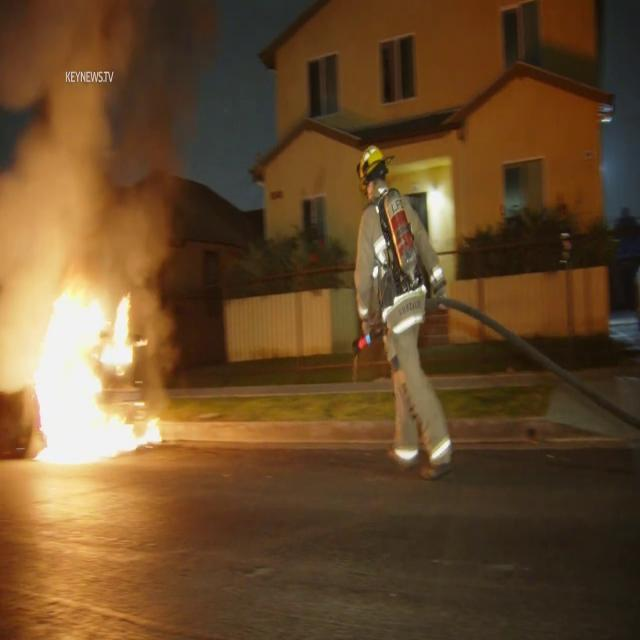Fire: (13, 266, 172, 474)
Smoke: (0, 0, 215, 293)
